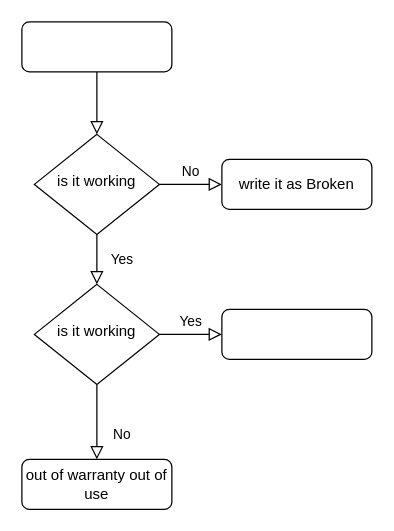
Some shapes in this 394 by 531 pixel diagram are drawn without their labels. The shapes that lost their labels are listed below. From the top down, each one's centre as x and y in pixels, then its label:
At pixel 96 46: "items".
At pixel 296 333: "write it as in stock".
